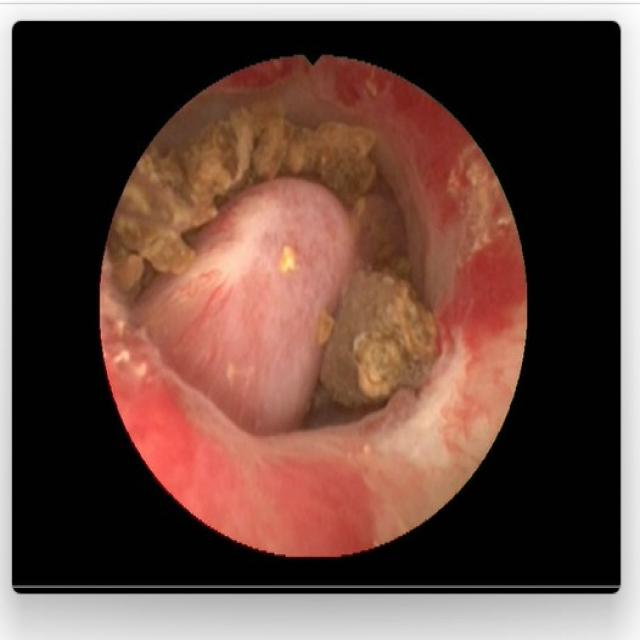stone: (108, 106, 384, 300), (316, 258, 436, 403)
